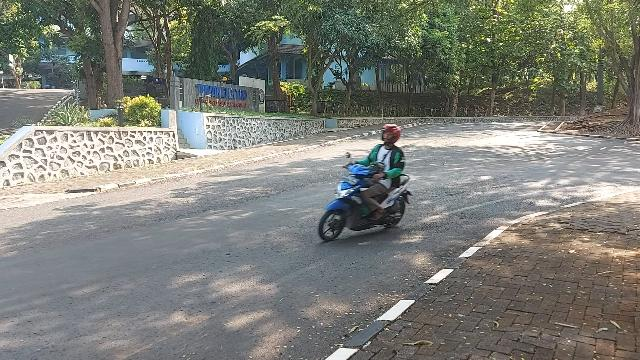helm: (383, 125, 402, 145)
motor: (319, 153, 413, 242)
